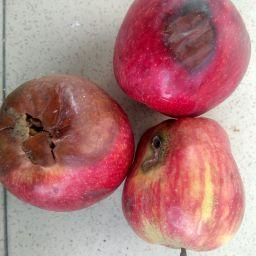apple: (98, 102, 256, 256), (0, 64, 143, 215), (114, 0, 256, 126)
